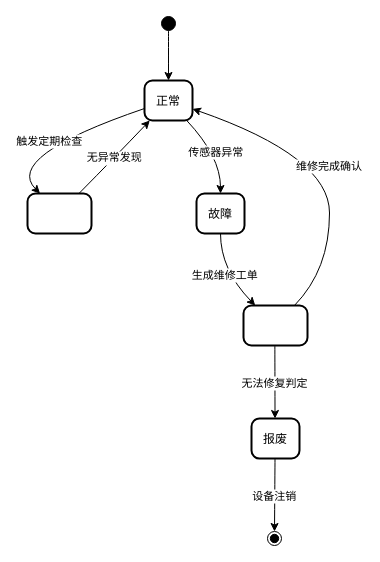
Image size: 380x562. Some labels were removed from this diagram. The centre of each missing label's shape, as x and y in pixels:
巡检中: pixel 59 213
维修中: pixel 275 325
